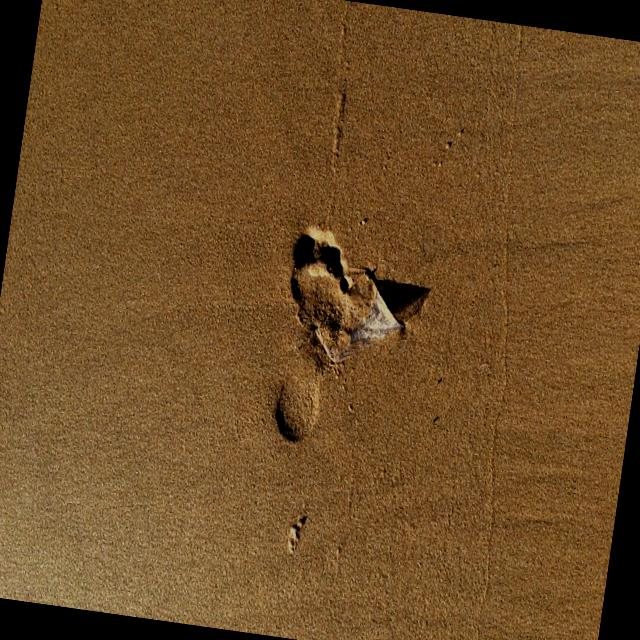Trash: (314, 258, 412, 366)
